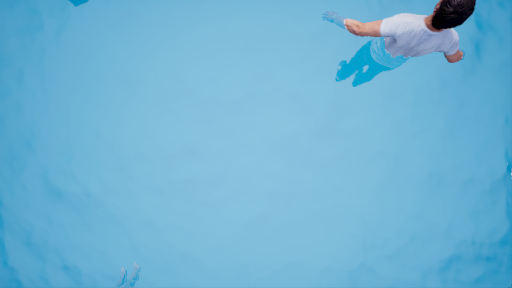person: (323, 1, 482, 88)
